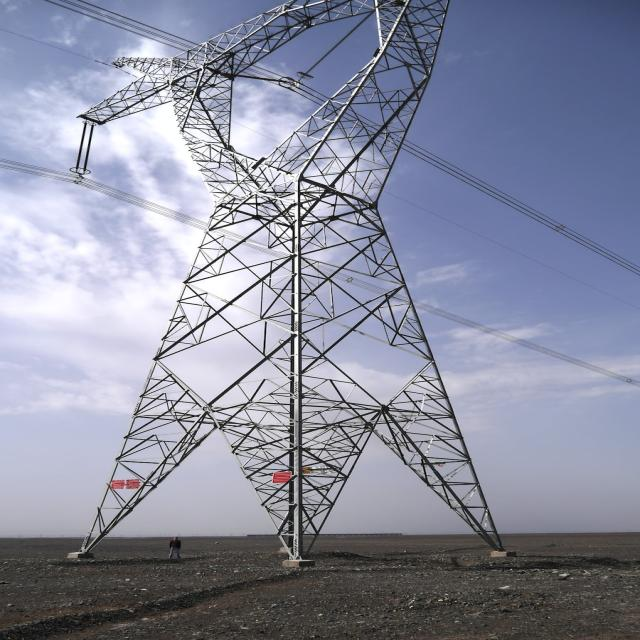transmission tower: (51, 13, 600, 561)
